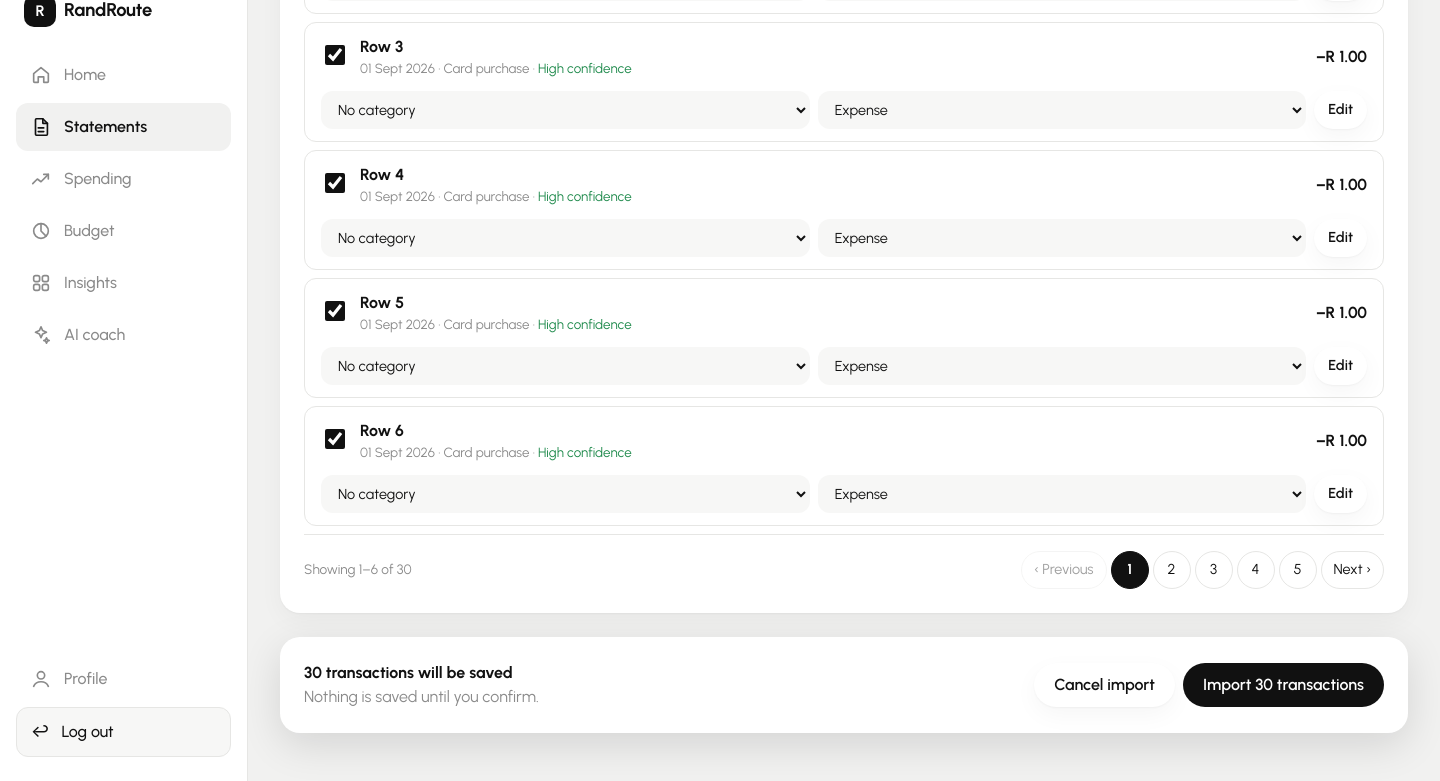
Test: paged lists in the app › statement review shows 6 rows per page
(page scrolled)
Expected: the text "Row 6" is shown, [360,421,404,440]
What coordinates should you click on to do the following:
click the button named "Page 5"
I would click on:
 (1298, 570)
Its box is [1278,550,1316,588].
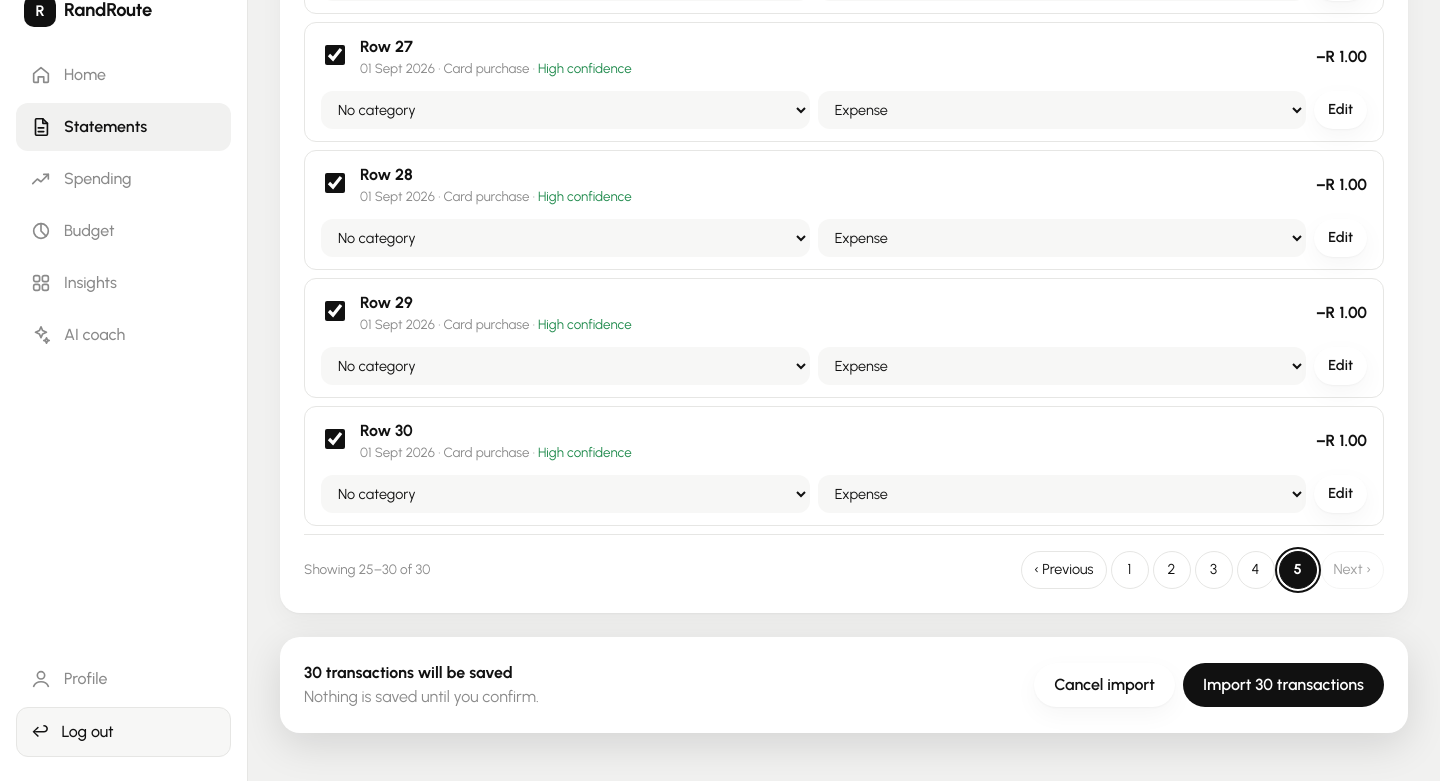
Expected: the button "Import 30 transactions" is shown, [1183,662,1384,706]
Expected: the text "Row 30" is shown, [360,421,413,440]
